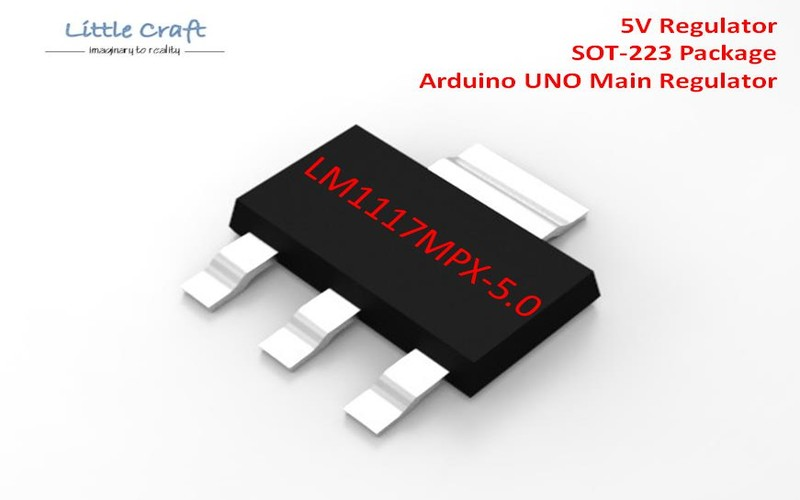Regulator: (154, 96, 600, 448)
